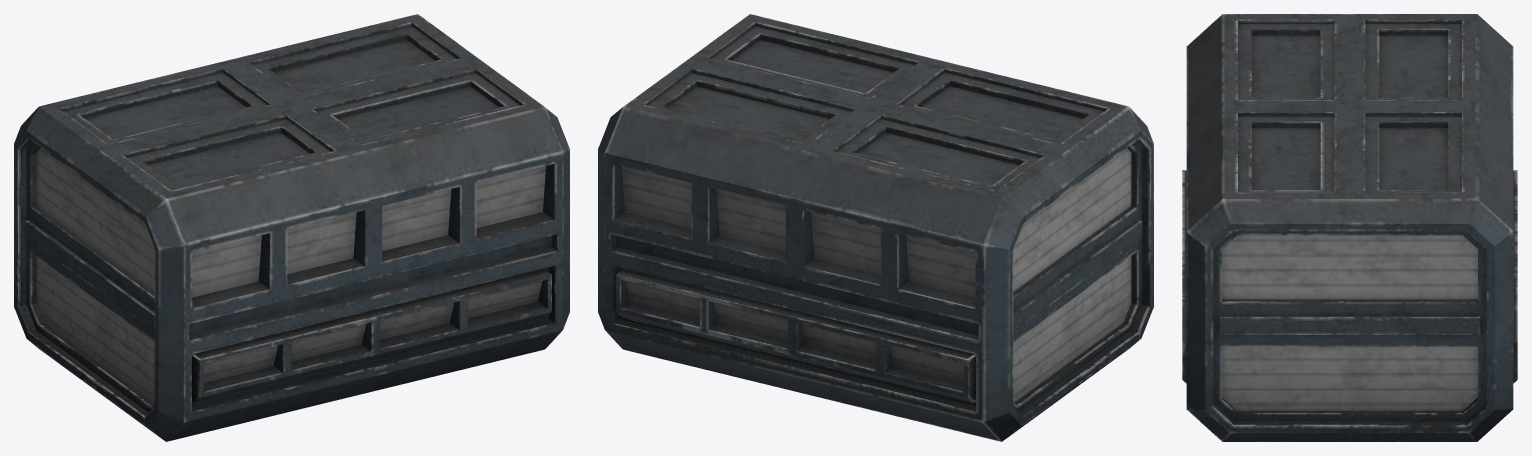
The model's file is SM_large_container.glb.
3 views of the same model, side by side, from view 1: azimuth 30°, elevation 25°; view 2: azimuth 150°, elevation 25°; view 3: azimuth 270°, elevation 25° (orthographic).
Parts seen in each view (by area): view 1: SM_large_container; view 2: SM_large_container; view 3: SM_large_container.
Boxes of the visible parts, x1=… form: SM_large_container: x1=14, y1=14, x2=569, y2=441; SM_large_container: x1=598, y1=14, x2=1153, y2=441; SM_large_container: x1=1182, y1=14, x2=1517, y2=441.
Bounding box in the file's own units: 5.89 × 3.32 × 4.15.
Materials: 1 (1 with a texture image).
